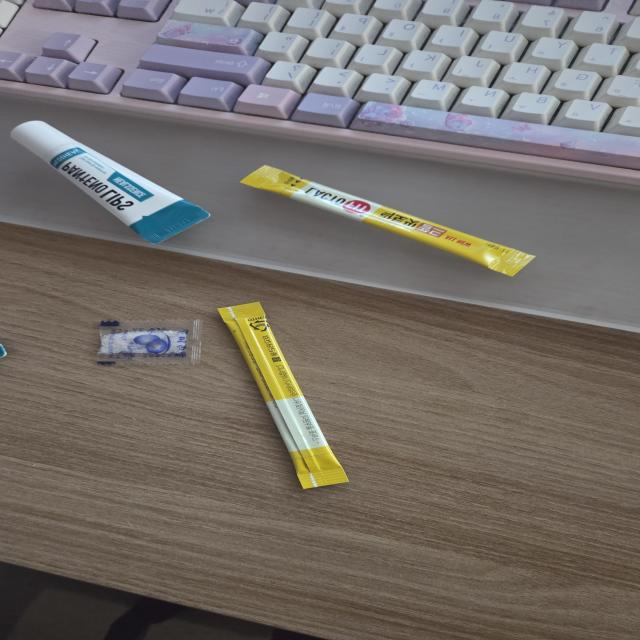lacto: (236, 161, 540, 279), (213, 298, 354, 490)
lib: (7, 120, 213, 246), (0, 338, 10, 361)
salt: (91, 315, 206, 369)
